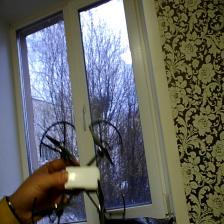drone: (29, 117, 131, 224)
